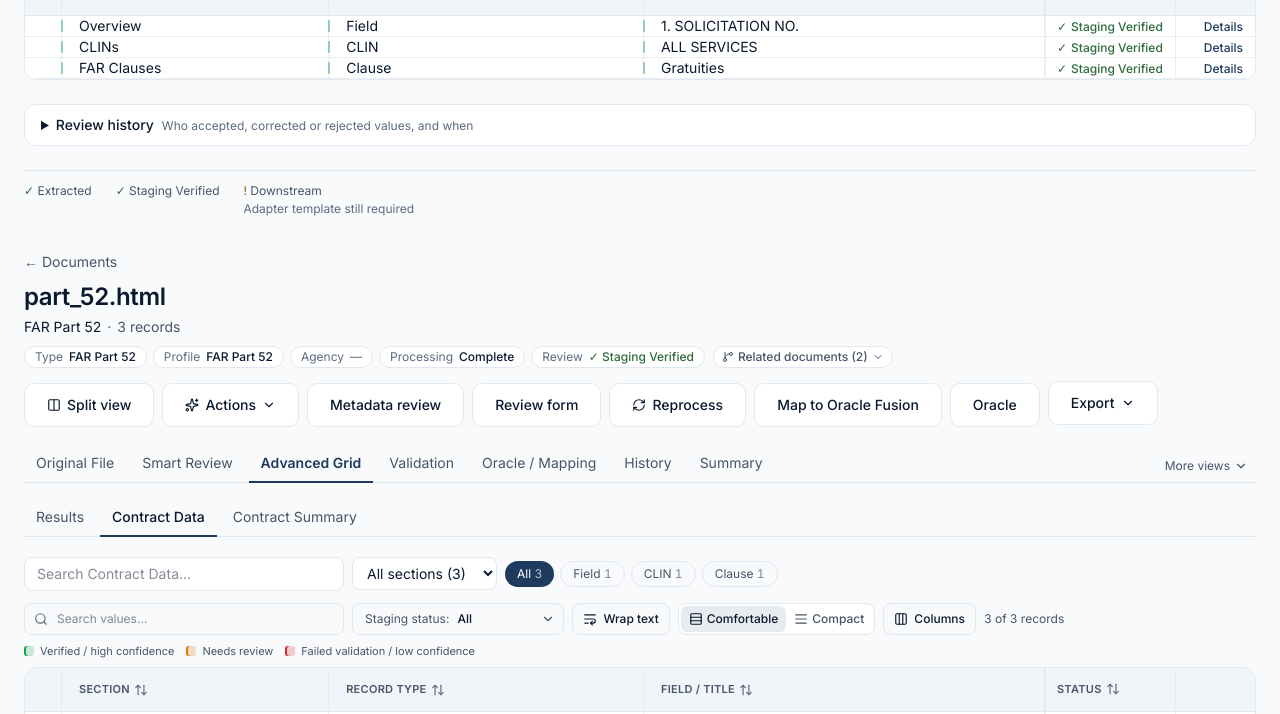
Test: DocumentWorkspace for a contract › shows an agency tag (— when unknown) and a related-documents switcher only when links exist
This screenshot has width=1280, height=714.
(page scrolled)
What coordinates should you click on to do the following:
click the button "Related documents (2)"
I would click on:
 (803, 356)
Its box is [713,346,893,368].
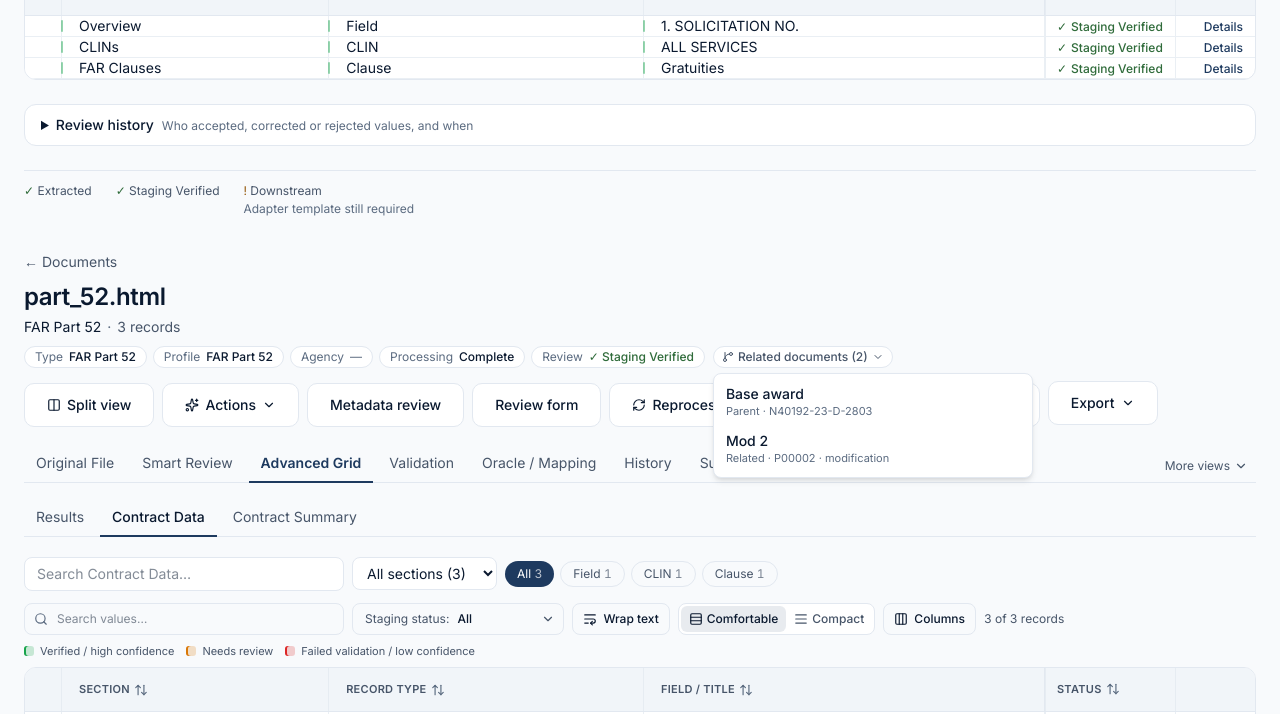
Now the menu item "Base award Parent · N40192-23-D-2803" is shown, box [726,384,872,418]
